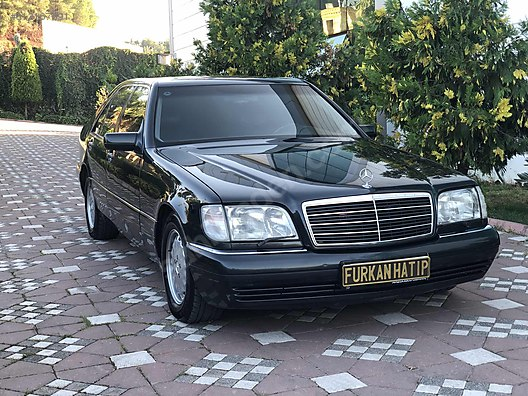m: (74, 69, 502, 326)
